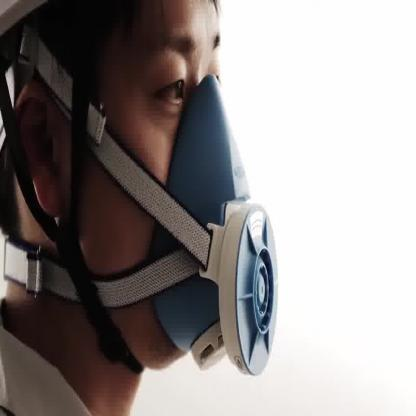mask: (137, 57, 279, 381)
